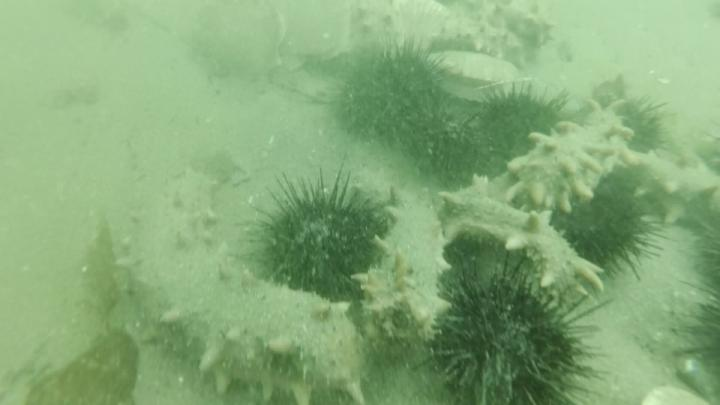echinus: (417, 244, 607, 405), (252, 163, 390, 295), (334, 45, 453, 144), (557, 182, 666, 284), (399, 109, 498, 187), (478, 79, 566, 161), (671, 288, 720, 387), (617, 94, 674, 155), (686, 221, 720, 294)
holothurian: (113, 165, 373, 405), (443, 174, 608, 300), (500, 94, 636, 205), (359, 186, 454, 341), (621, 147, 720, 238), (479, 1, 562, 53), (438, 14, 528, 60)
scallop: (193, 1, 291, 80), (427, 51, 528, 98), (280, 1, 353, 63), (390, 1, 458, 47)
